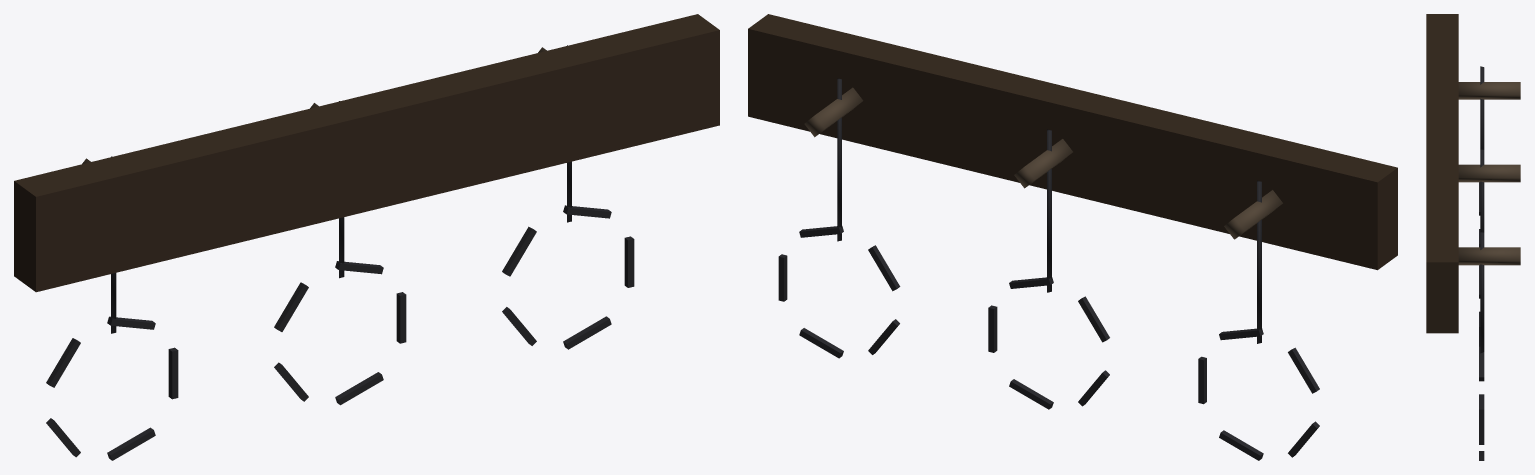
Rendered from snares_hanging.glb.
3 views of the same model, side by side, from view 1: azimuth 30°, elevation 25°; view 2: azimuth 150°, elevation 25°; view 3: azimuth 270°, elevation 25° (orthographic). The views are drawn at different scales.
Parts seen in each view (by area): view 1: snares_hanging; view 2: snares_hanging; view 3: snares_hanging.
Part boxes in pixels (x1=…): snares_hanging: x1=14, y1=14, x2=719, y2=460; snares_hanging: x1=748, y1=14, x2=1397, y2=460; snares_hanging: x1=1426, y1=14, x2=1520, y2=460.
Size of the model in its own units: 0.9 by 0.3992 by 0.145.
